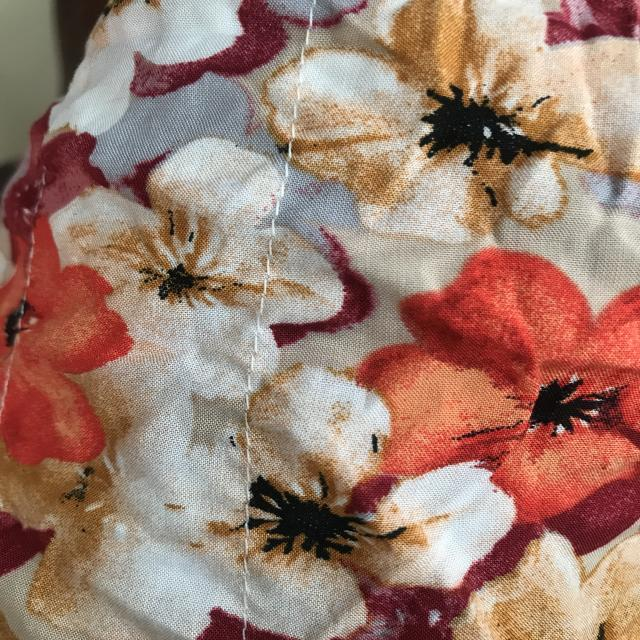good: (272, 62, 316, 185), (231, 408, 269, 512), (256, 209, 279, 336)
